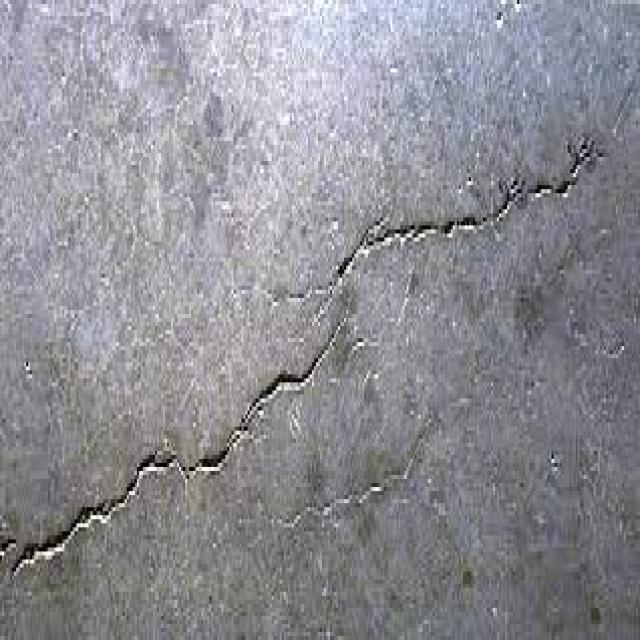Crack: (290, 141, 600, 294), (191, 334, 334, 471), (20, 455, 188, 555)
